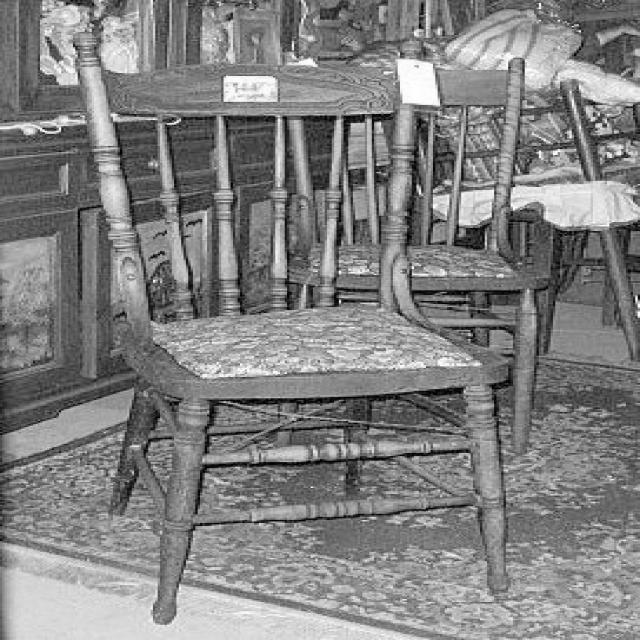chair: (75, 28, 519, 626), (306, 67, 558, 487)
